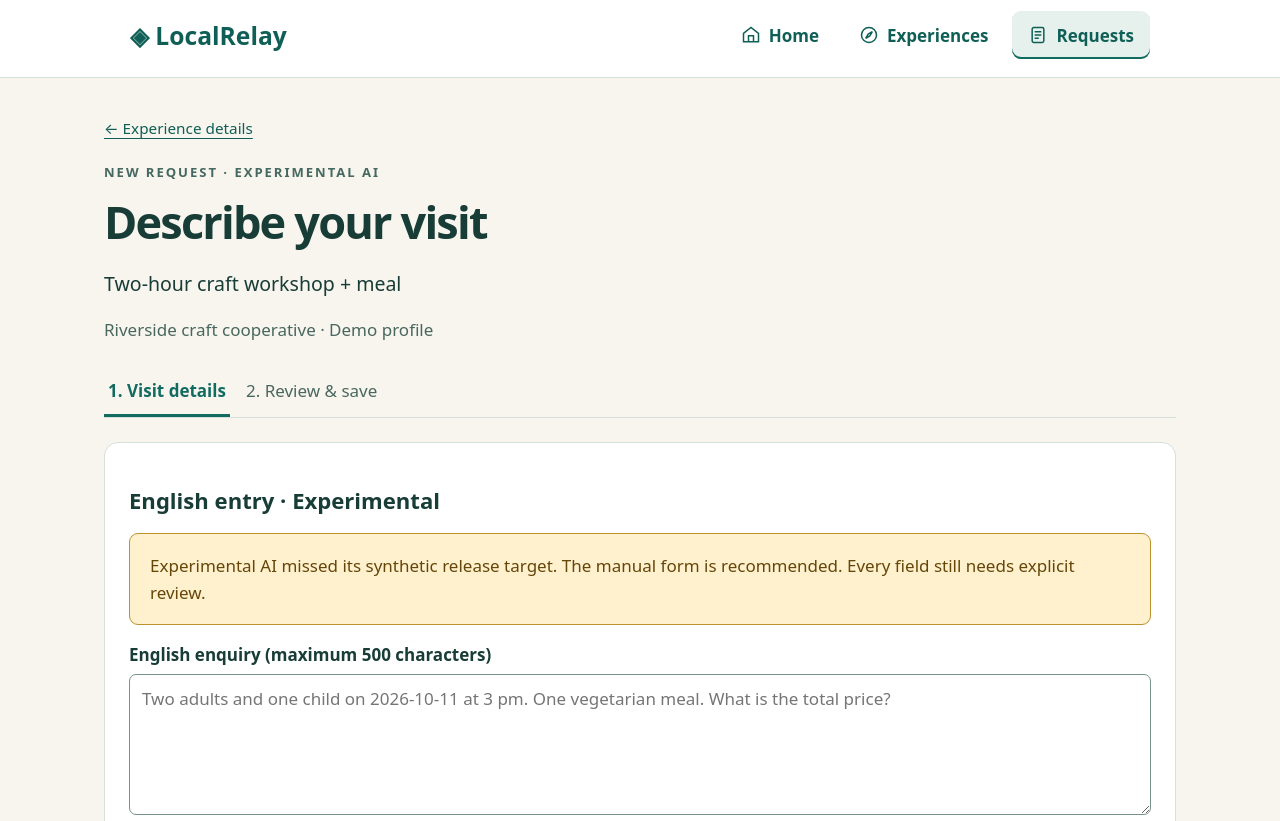
Test case: worker failure is visible and form remains reachable
The image size is (1280, 821).
Replace the text in the text box labelled "English enquiry (maximum 500 characters)" with "Can I book a visit tomorrow?": [640, 744] box [129, 674, 1151, 815]
(page scrolled)
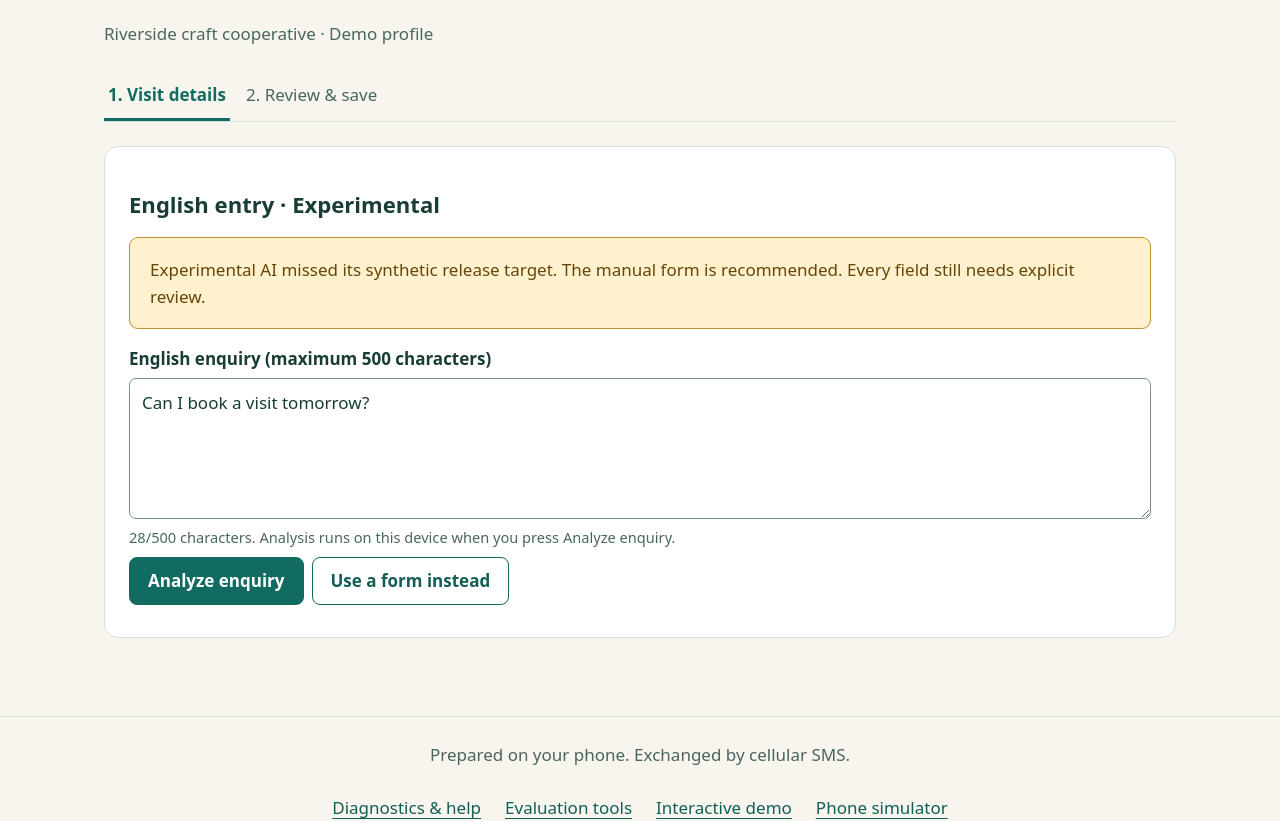
Click the button "Analyze enquiry": [216, 581] box [129, 557, 304, 605]
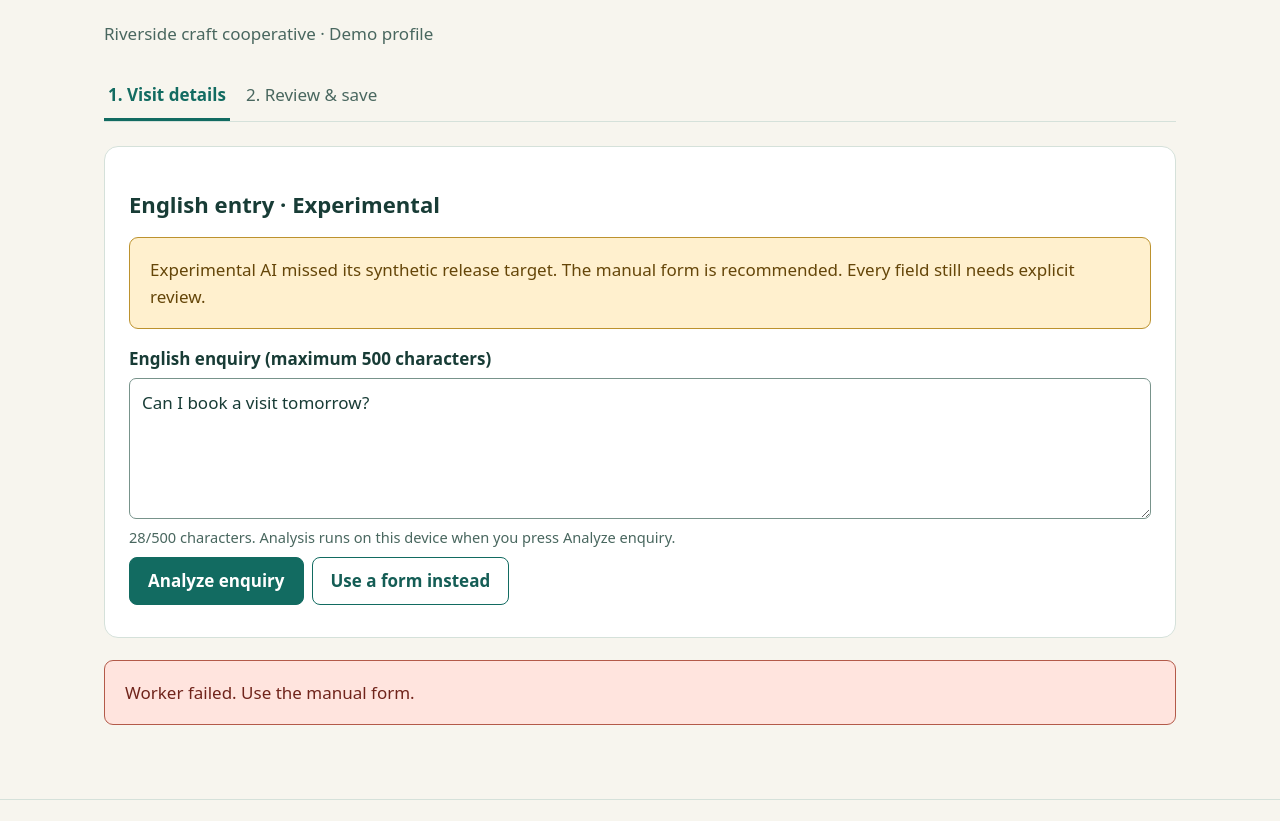
Now the text "Worker failed. Use the manual form." is shown, box [104, 660, 1176, 725]
Click the button "Use a form instead": [410, 581] box [312, 557, 509, 605]
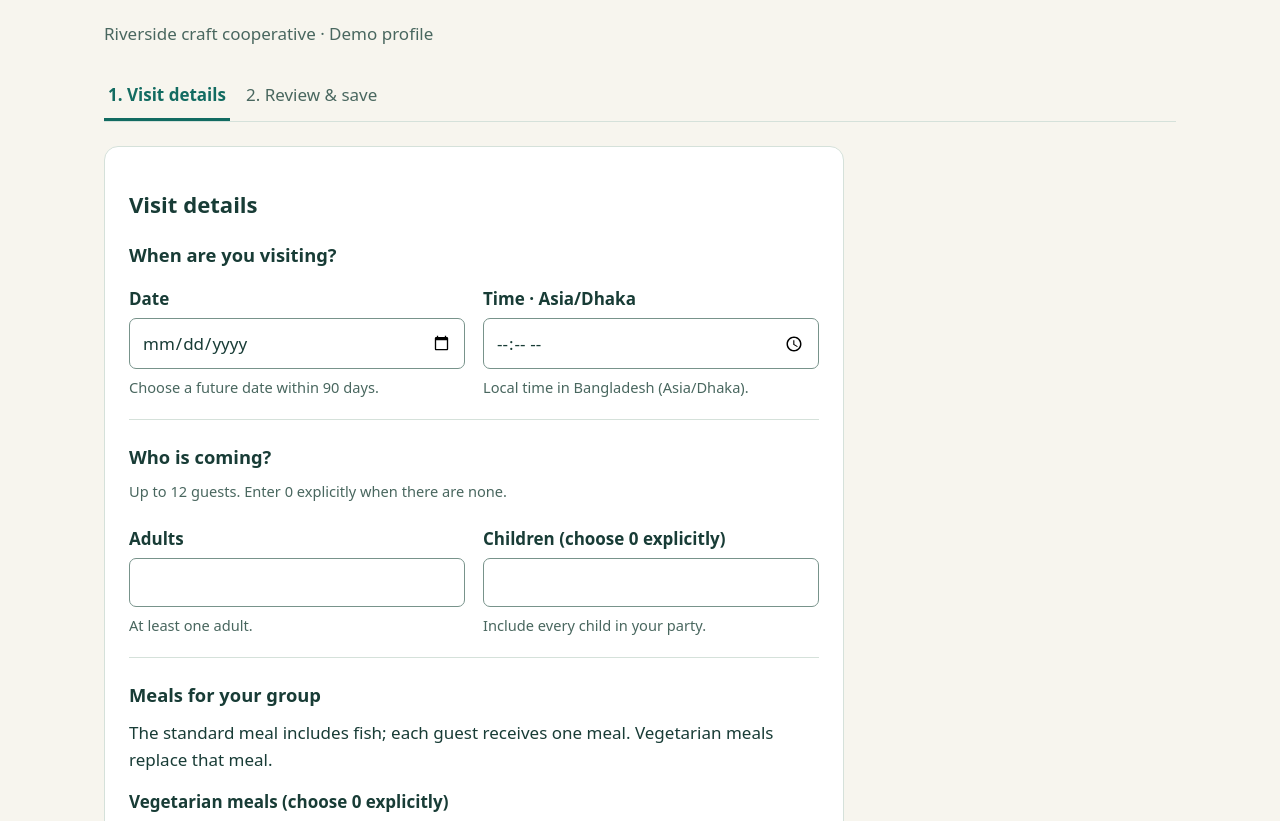
Now the date field labelled "Date" is shown, box [129, 318, 465, 369]
